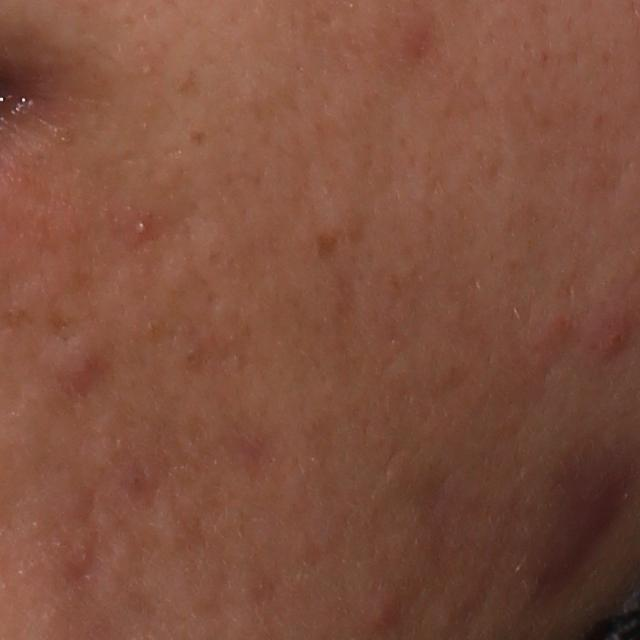nodule: (528, 454, 628, 594)
papule: (63, 339, 105, 391), (361, 596, 397, 631)
